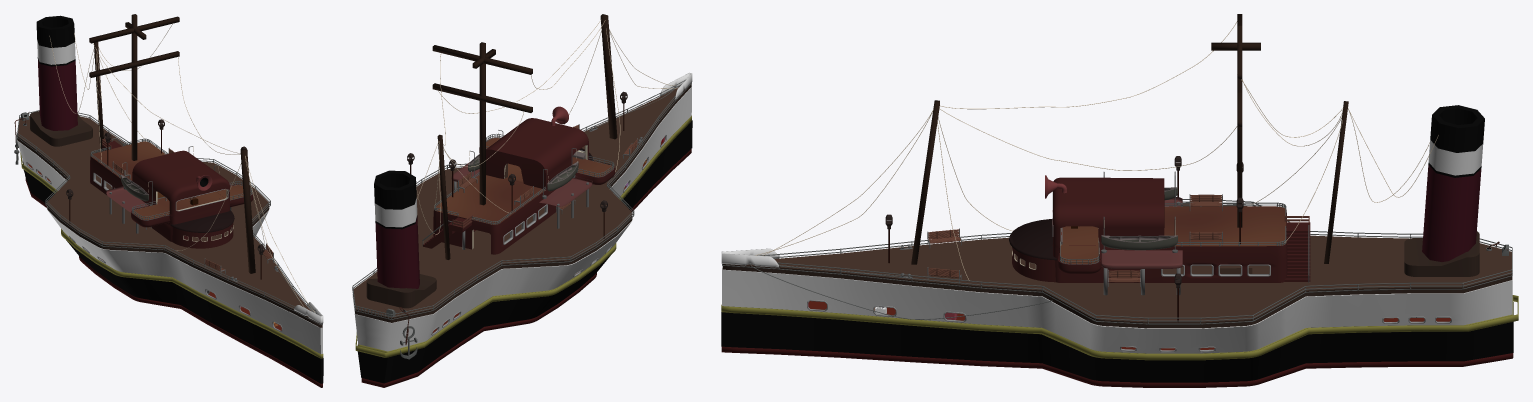
Rendered from shiptest5.glb.
3 views of the same model, side by side, from view 1: azimuth 30°, elevation 25°; view 2: azimuth 150°, elevation 25°; view 3: azimuth 270°, elevation 25° (orthographic). The views are drawn at different scales.
Parts seen in each view (by area): view 1: upperdock, middlewalls, captaindeck, bottomwalls, Pipe, captaindeck.002, Pole2, railingswholeship, shipmiddledetails, upperdock.001, trosses, bottomdeck (+9 smaller); view 2: upperdock, middlewalls, captaindeck, bottomwalls, Pipe, captaindeck.002, Pole2, railingswholeship, shipmiddledetails, upperdock.001, bottomdeck, pipebase (+10 smaller); view 3: middlewalls, bottomwalls, upperdock, captaindeck, Pipe, shipmiddledetails, captaindeck.002, railingswholeship, upperdock.001, bottomdeck, trosses, pipebase (+9 smaller).
Part boxes in pixels (x1,y1,x2,y2): upperdock: (18,116,311,316); middlewalls: (17,140,322,354); captaindeck: (90,150,253,248); bottomwalls: (22,160,323,383); Pipe: (36,15,77,130); captaindeck.002: (91,141,251,219); Pole2: (89,14,179,160); railingswholeship: (17,110,322,324); shipmiddledetails: (20,152,323,358); upperdock.001: (17,136,322,327); trosses: (49,24,315,312); bottomdeck: (25,178,322,387); upperdock: (353,86,679,317); middlewalls: (352,87,691,351); captaindeck: (433,118,615,254); bottomwalls: (357,120,692,383); Pipe: (374,170,419,288); captaindeck.002: (435,138,613,224); Pole2: (432,42,532,205); railingswholeship: (352,79,691,319); shipmiddledetails: (355,115,691,357); upperdock.001: (353,83,691,322); bottomdeck: (361,149,691,387); pipebase: (366,274,436,308); middlewalls: (722,268,1512,353); bottomwalls: (721,302,1513,382); upperdock: (747,203,1511,322); captaindeck: (1012,177,1287,282); Pipe: (1422,105,1484,261); shipmiddledetails: (721,295,1518,360); captaindeck.002: (1060,206,1286,263); railingswholeship: (722,199,1512,324); upperdock.001: (722,264,1512,328); bottomdeck: (721,346,1513,387); trosses: (755,21,1438,280); pipebase: (1404,231,1479,276).
Size of what is drawn, in the model's own units: 3.23 by 4.07 by 9.03.
83 materials, 3 textured.
